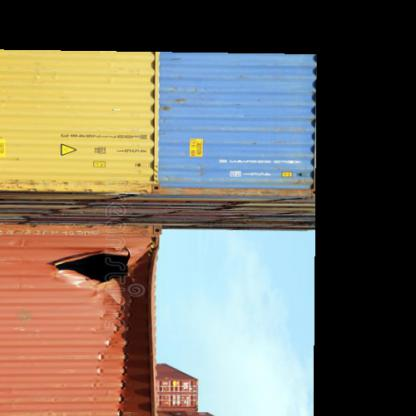Damage: (50, 238, 158, 304), (119, 249, 157, 402)
